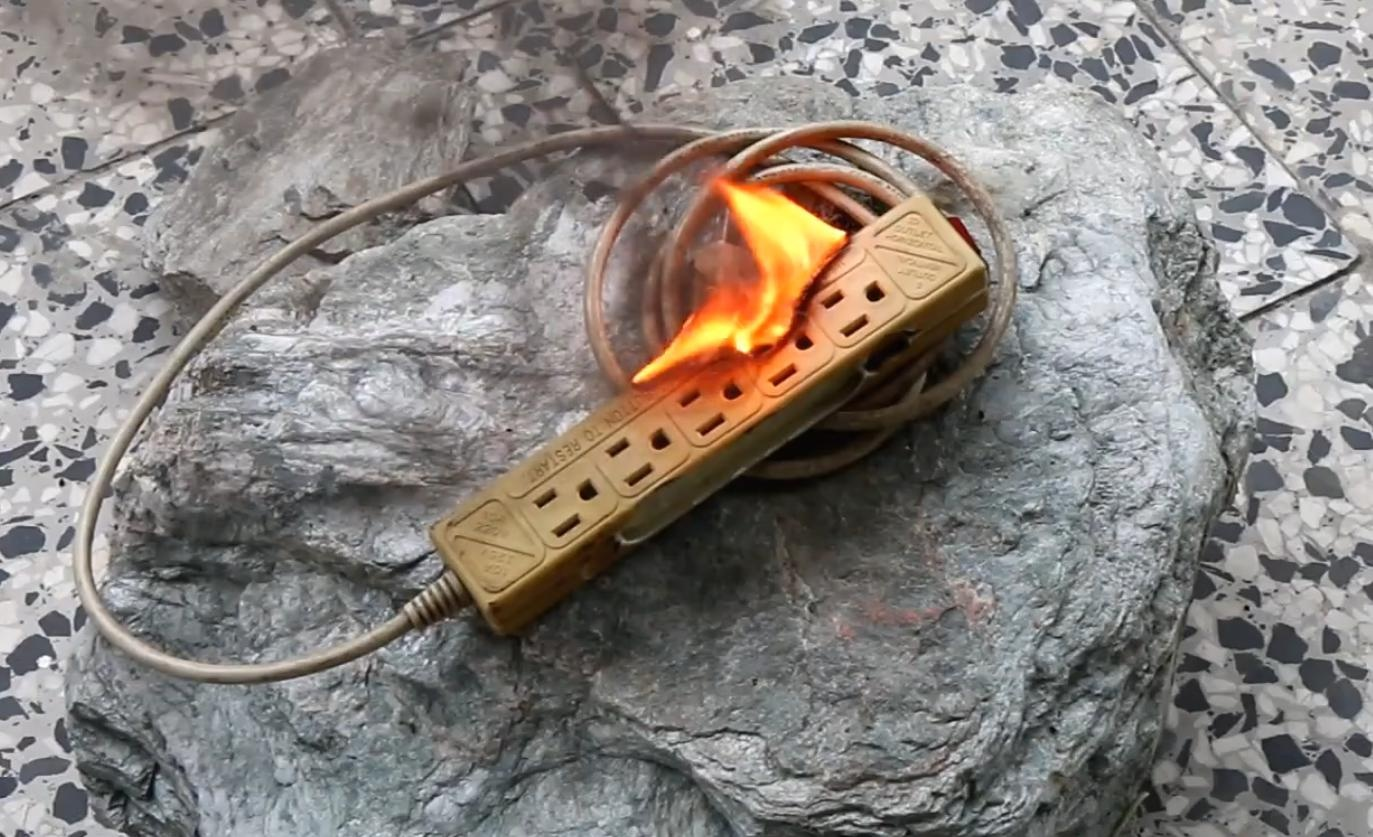fire: (615, 172, 853, 381)
